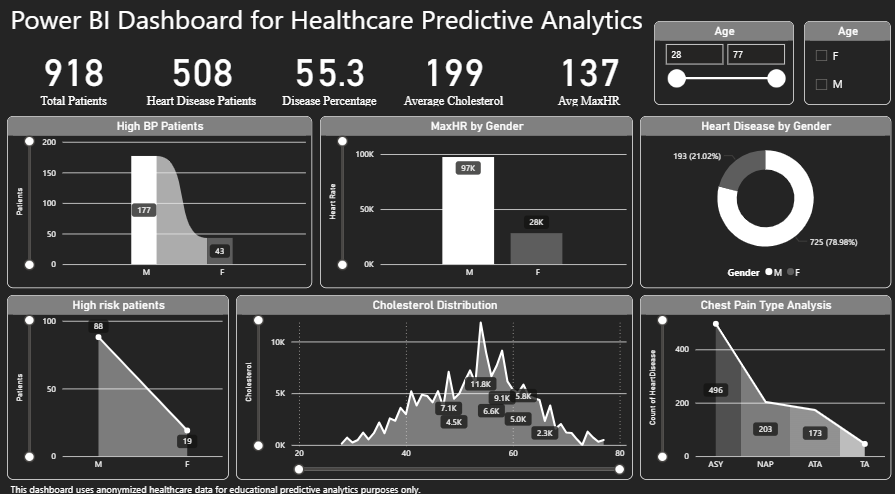

What the dashboard file says about the page in this screenshot:
{"tool":"powerbi","page":{"name":"Page 2","canvas":[1280,720],"ordinal":0},"visuals":[{"type":"textbox","box":[10,0,922.9,68.6],"z":0},{"type":"card","title":"👥","fields":{"Values":["CountNonNull(heart.Sex)"]},"box":[41.4,60,127.1,101.4],"z":1000},{"type":"card","title":"❤️","fields":{"Values":["Sum(heart.HeartDisease)"]},"box":[187.1,60,201.4,101.4],"z":2000},{"type":"card","title":"📊","fields":{"Values":["heart.Disease Percentage"]},"box":[370,60,201.4,101.4],"z":3000},{"type":"card","fields":{"Values":["Avg(heart.Cholesterol)"]},"box":[546.9,60,201.4,101.4],"z":4000},{"type":"card","fields":{"Values":["heart.Avg MaxHR"]},"box":[748.3,60,185.7,101.4],"z":5000},{"type":"donutChart","title":"Heart Disease by Gender","fields":{"Category":["heart.Sex"],"Y":["CountNonNull(heart.HeartDisease)"]},"box":[914.3,170,358.6,245.7],"z":6000},{"type":"clusteredColumnChart","title":"MaxHR by Gender","fields":{"Category":["heart.Sex"],"Y":["Sum(heart.MaxHR)"]},"box":[457.1,170,447.1,245.7],"z":7000},{"type":"stackedAreaChart","title":"Chest Pain Type Analysis","fields":{"Category":["heart.ChestPainType"],"Y":["CountNonNull(heart.HeartDisease)"]},"box":[914.3,425.3,358.6,264.3],"z":8000},{"type":"stackedAreaChart","title":"Cholesterol Distribution","fields":{"Category":["heart.Age"],"Y":["Sum(heart.Cholesterol)"]},"box":[337.1,425.7,567.1,264.3],"z":9000},{"type":"ribbonChart","title":"High BP Patients","fields":{"Category":["heart.Sex"],"Y":["heart.High BP Patients"]},"box":[10,170,435.7,245.7],"z":10000},{"type":"lineChart","title":"High risk patients","fields":{"Category":["heart.Sex"],"Y":["heart.High Risk Patients"]},"box":[10,425.3,317.1,264.3],"z":11000},{"type":"slicer","title":"Age","fields":{"Values":["heart.Age"]},"box":[934.3,34.3,200,120],"z":12000},{"type":"slicer","title":"Age","fields":{"Values":["heart.Sex"]},"box":[1148.6,34.3,124.3,120],"z":13000},{"type":"textbox","box":[10,690,1262.9,30],"z":14000}]}

Visuals, with their boxes in screenshot pixels (x1, y1, x2, y2), scaled from the page's 1280x720 canvas onto the 895x494 screenshot:
textbox: 7,0,652,47
"👥" card: 29,41,118,111
"❤️" card: 131,41,272,111
"📊" card: 259,41,400,111
card - Avg(heart.Cholesterol): 382,41,523,111
card - heart.Avg MaxHR: 523,41,653,111
"Heart Disease by Gender" donutChart: 639,117,890,285
"MaxHR by Gender" clusteredColumnChart: 320,117,632,285
"Chest Pain Type Analysis" stackedAreaChart: 639,292,890,473
"Cholesterol Distribution" stackedAreaChart: 236,292,632,473
"High BP Patients" ribbonChart: 7,117,312,285
"High risk patients" lineChart: 7,292,229,473
"Age" slicer: 653,24,793,106
"Age" slicer: 803,24,890,106
textbox: 7,473,890,493
